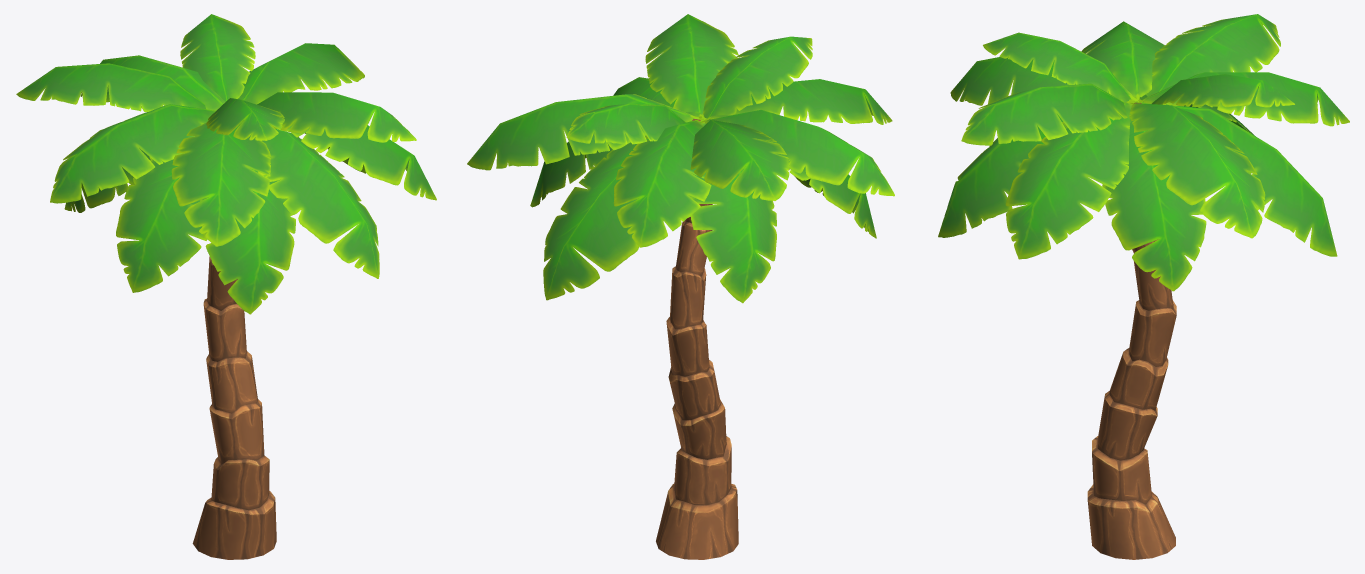
The model's file is M_Palm1.fbx.
3 renders of one model, left to right at view 1: azimuth 30°, elevation 25°; view 2: azimuth 150°, elevation 25°; view 3: azimuth 270°, elevation 25°, orthographic. The views are drawn at different scales.
Visible parts, largest first — view 1: polySurface191, polySurface208; view 2: polySurface191, polySurface208; view 3: polySurface191, polySurface208.
Part boxes in pixels (<box>): polySurface191: <box>16,14,436,314</box>; polySurface208: <box>192,256,276,559</box>; polySurface191: <box>467,14,894,303</box>; polySurface208: <box>656,119,738,559</box>; polySurface191: <box>938,14,1349,291</box>; polySurface208: <box>1087,102,1176,559</box>.
Bounding box in the file's own units: 25.1 × 30.02 × 23.13.
